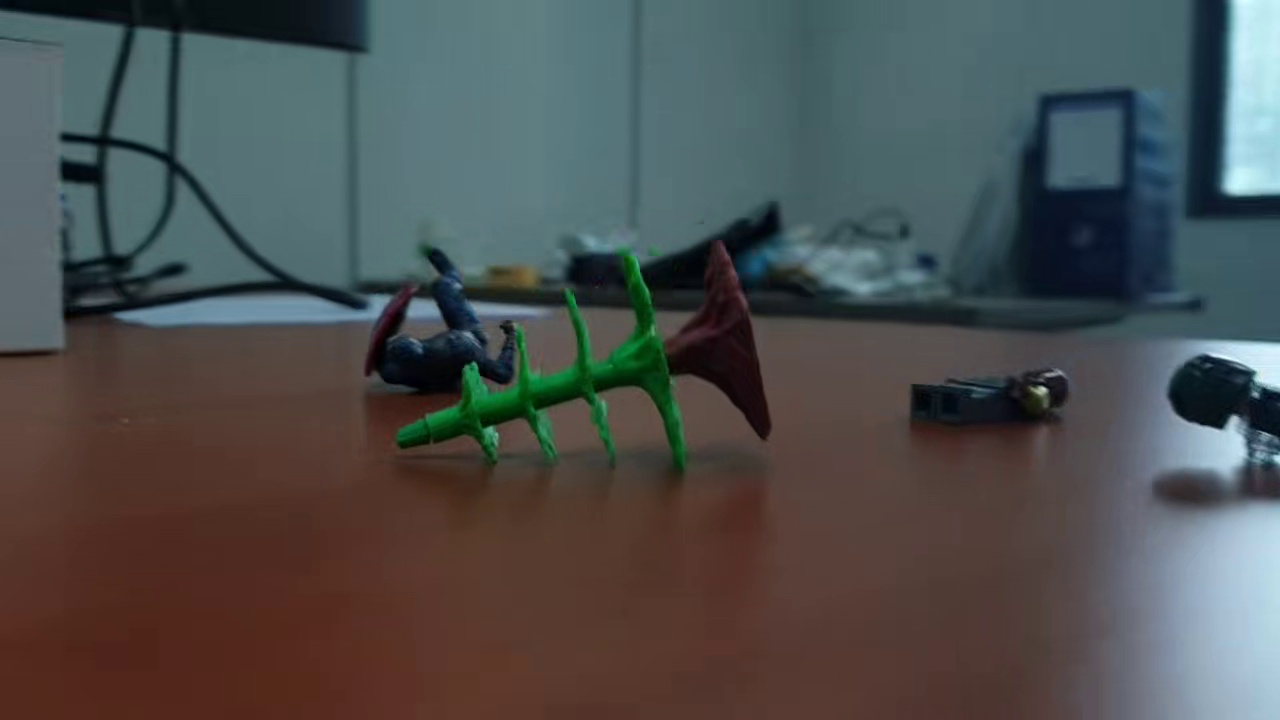people: (367, 245, 517, 395), (1161, 352, 1280, 464), (907, 361, 1074, 429)
tree: (388, 237, 775, 470)
